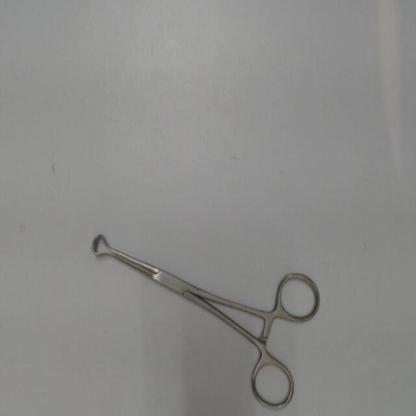Babcock Tissue Forceps: (88, 227, 324, 414)
